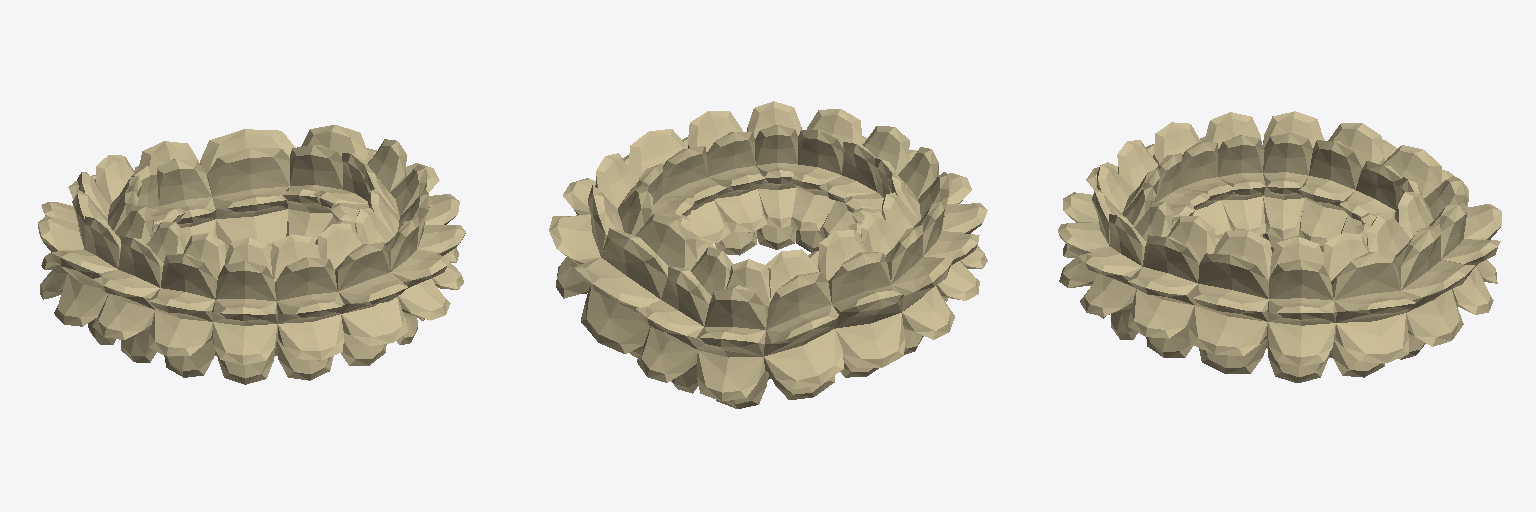
File: portal.obj
3 views of the same model, side by side, from view 1: azimuth 30°, elevation 25°; view 2: azimuth 150°, elevation 25°; view 3: azimuth 270°, elevation 25° (orthographic).
Visible parts, largest first — view 1: torus1; view 2: torus1; view 3: torus1.
Part boxes in pixels (bbox=[...]): torus1: bbox=[38, 125, 465, 384]; torus1: bbox=[549, 101, 987, 408]; torus1: bbox=[1058, 111, 1501, 382].
Bounding box in the file's own units: 4.49 × 1.77 × 4.61.